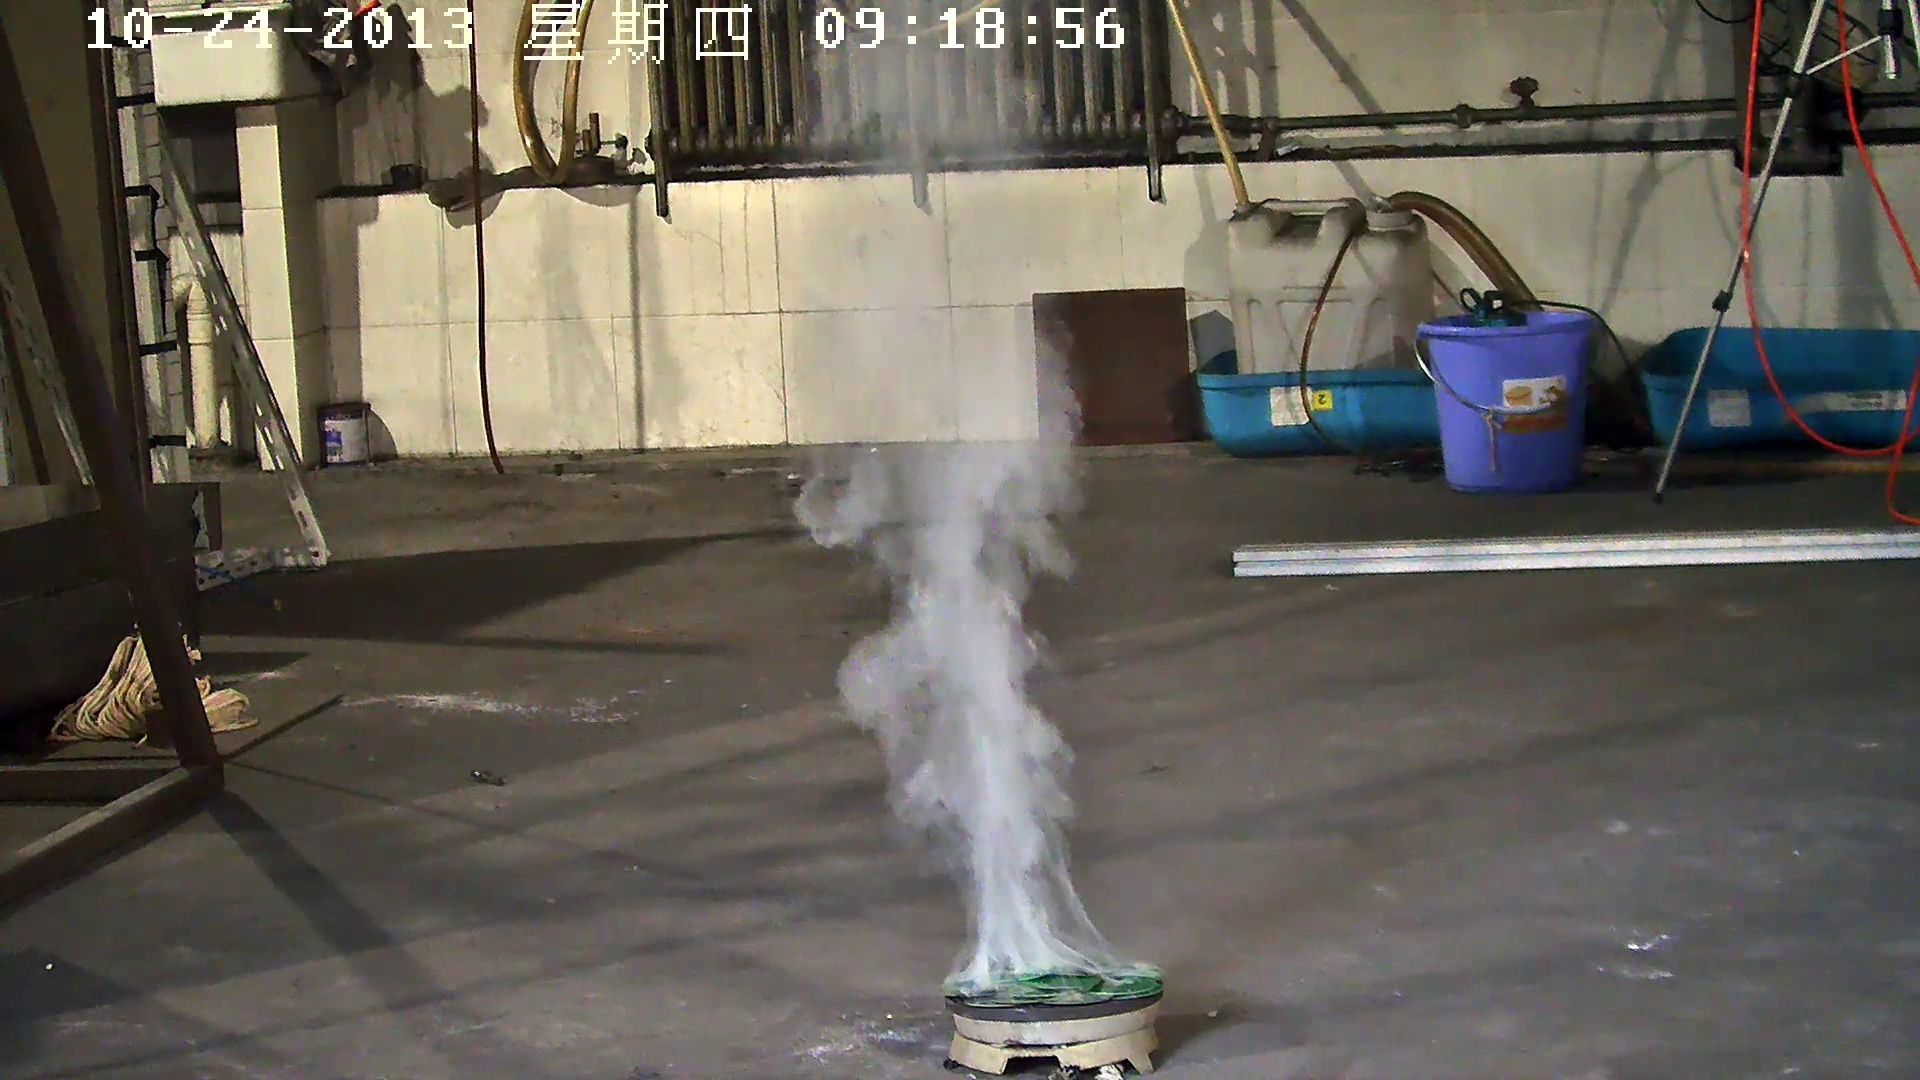smoke: (771, 70, 1142, 963)
